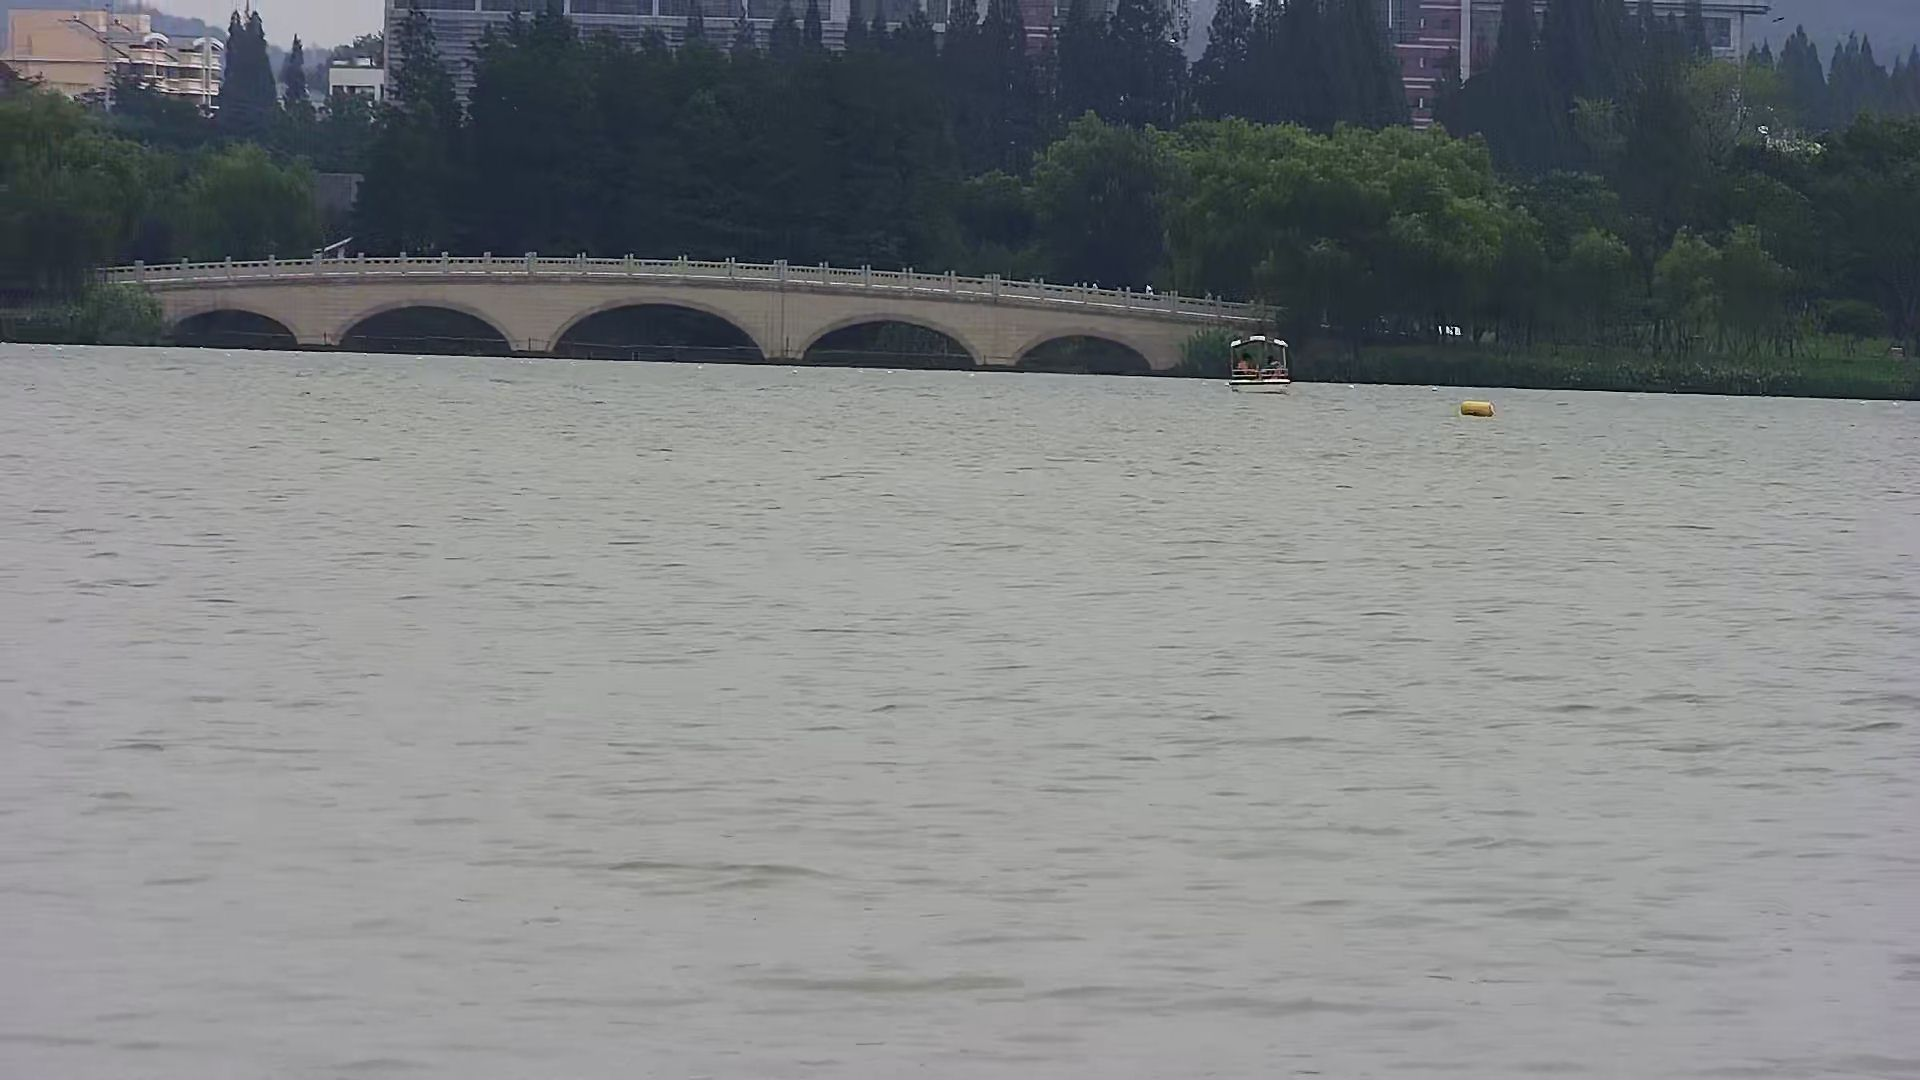boat: (1224, 330, 1294, 404)
bridge: (117, 239, 1232, 382)
rubbish: (1456, 392, 1493, 419)
